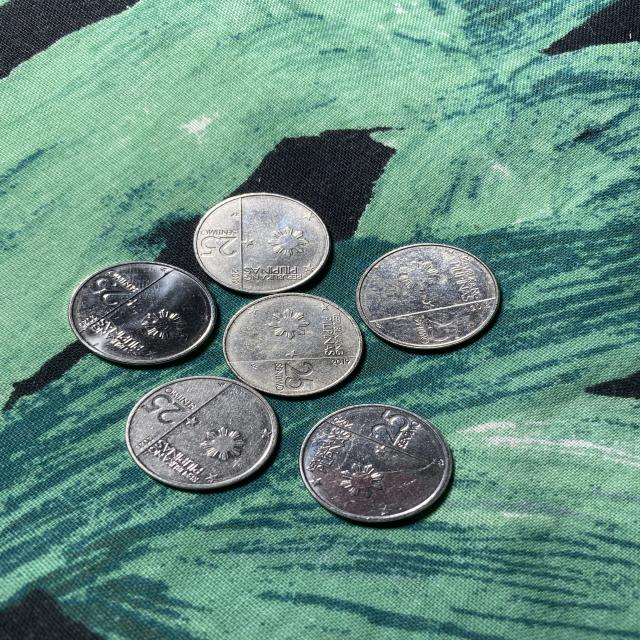25Cent_New_Front: (368, 409, 409, 445), (283, 359, 319, 394), (145, 394, 186, 424), (424, 310, 461, 340), (90, 278, 128, 307), (198, 235, 242, 260)
